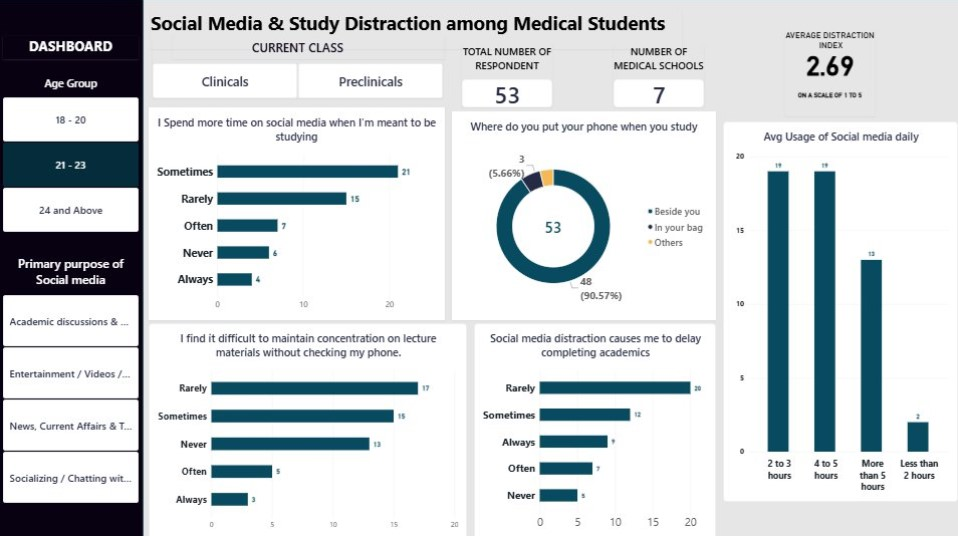

This screenshot's page, from the dashboard's own definition file:
{"tool":"powerbi","page":{"name":"Page 2","canvas":[1920,1080],"ordinal":1},"visuals":[{"type":"group","id":"g1","title":"Group 1","box":[0,0,1920,1080],"z":0},{"type":"shape","box":[288,0,1632,1078],"z":0,"group":"g1"},{"type":"shape","box":[0,0,288.7,1080],"z":1000,"group":"g1"},{"type":"textbox","box":[304,22,1058,78],"z":1000},{"type":"cardVisual","title":"TOTAL NUMBER OF RESPONDENT","fields":{"Data":["CountNonNull(Sheet1.Institution/MSA)"]},"box":[924,90,180,126],"z":2000},{"type":"cardVisual","title":"NUMBER OF MEDICAL SCHOOLS","fields":{"Data":["Count(Sheet1.Institution/MSA)"]},"box":[1226,90,180,126],"z":3000},{"type":"textbox","box":[1568,62,178,172],"z":5000},{"type":"advancedSlicerVisual","title":"CURRENT CLASS","fields":{"Values":["Sheet1.What is your current academic level?"]},"box":[308,80,578,118],"z":5001},{"type":"advancedSlicerVisual","title":"Age Group","fields":{"Values":["Sheet1.What is your age"]},"box":[10,152,270,312],"z":5002},{"type":"textbox","box":[10,74,270,46],"z":5003},{"type":"textbox","box":[348,74,542,46],"z":5003,"group":"g1"},{"type":"advancedSlicerVisual","title":"Primary purpose of Social media ","fields":{"Values":["Sheet1.What is your primary purpose for using social media on a daily basis?"]},"box":[10,510,270,494],"z":5004},{"type":"clusteredColumnChart","title":"Avg Usage of Social media daily","fields":{"Category":["Sheet1.On average, considering both weekdays and weekends combined, how many hours per day do you spend on social media "],"Y":["CountNonNull(Sheet1.On average, considering both weekdays and weekends combined, how many hours per day do you spend on "]},"box":[1444,244,468,758],"z":5005},{"type":"clusteredBarChart","title":"I Spend more time on social media when I''m meant to be studying","fields":{"Category":["Sheet1.I spend more time scrolling on social media than intended when I am supposed to be studying"],"Y":["CountNonNull(Sheet1.I spend more time scrolling on social media than intended when I am supposed to be studying)"]},"box":[300,216,590,424],"z":5006},{"type":"donutChart","title":"Where do you put your phone when you study","fields":{"Category":["Sheet1.Where is your phone when you study?"],"Y":["CountNonNull(Sheet1.Where is your phone when you study?)"]},"box":[904,224,526,416],"z":5007},{"type":"clusteredBarChart","title":"I find it difficult to maintain concentration on lecture materials without checking my phone. ","fields":{"Category":["Sheet1.I find it difficult to maintain concentration on lecture materials without checking my phone."],"Y":["CountNonNull(Sheet1.I find it difficult to maintain concentration on lecture materials without checking my phone.)"]},"box":[300,646,634,432],"z":5008},{"type":"clusteredBarChart","title":"Social media distraction causes me to delay completing academics","fields":{"Category":["Sheet1.Social media distraction causes me to delay completing academic assignments or reading notes."],"Y":["CountNonNull(Sheet1.Social media distraction causes me to delay completing academic assignments or reading notes.)"]},"box":[948,646,482,432],"z":5009}]}

Visuals, with their boxes in screenshot pixels (x1, y1, x2, y2), scaled from the page's 1920x1080 canvas onto the 958x536 screenshot:
"Group 1" group: [left=0, top=0, right=957, bottom=535]
shape: [left=144, top=0, right=957, bottom=535]
shape: [left=0, top=0, right=144, bottom=535]
textbox: [left=152, top=11, right=680, bottom=50]
"TOTAL NUMBER OF RESPONDENT" cardVisual: [left=461, top=45, right=551, bottom=107]
"NUMBER OF MEDICAL SCHOOLS" cardVisual: [left=612, top=45, right=702, bottom=107]
textbox: [left=782, top=31, right=871, bottom=116]
"CURRENT CLASS" advancedSlicerVisual: [left=154, top=40, right=442, bottom=98]
"Age Group" advancedSlicerVisual: [left=5, top=75, right=140, bottom=230]
textbox: [left=5, top=37, right=140, bottom=60]
textbox: [left=174, top=37, right=444, bottom=60]
"Primary purpose of Social media " advancedSlicerVisual: [left=5, top=253, right=140, bottom=498]
"Avg Usage of Social media daily" clusteredColumnChart: [left=720, top=121, right=954, bottom=497]
"I Spend more time on social media when I''m meant to be studying" clusteredBarChart: [left=150, top=107, right=444, bottom=318]
"Where do you put your phone when you study" donutChart: [left=451, top=111, right=714, bottom=318]
"I find it difficult to maintain concentration on lecture materials without checking my phone. " clusteredBarChart: [left=150, top=321, right=466, bottom=535]
"Social media distraction causes me to delay completing academics" clusteredBarChart: [left=473, top=321, right=714, bottom=535]
